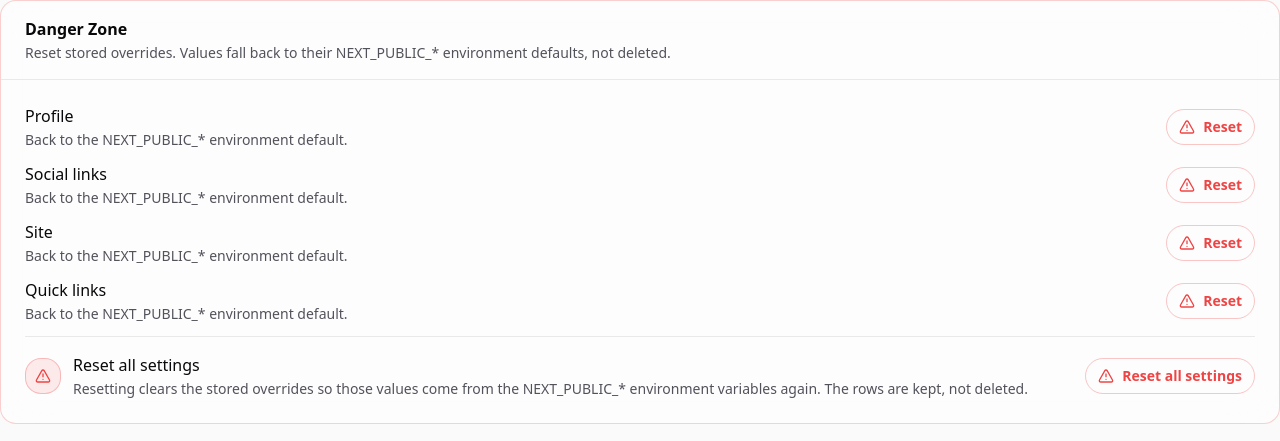
Test: DangerZone › tidak memanggil API pada klik pertama (butuh konfirmasi)
Click the button "Reset all settings" at (1170, 376), box [1085,358,1255,394]
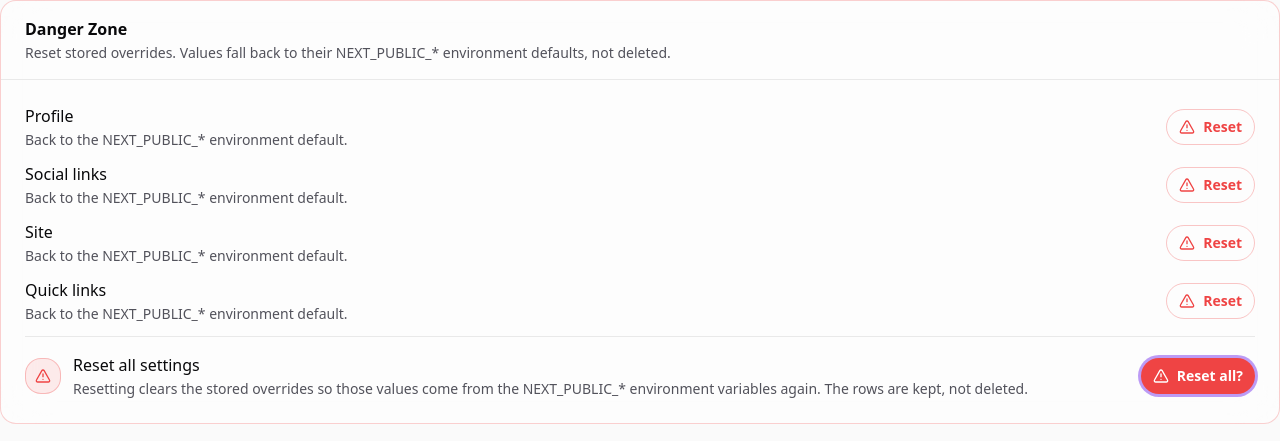
Expected: the button "Reset all?" is shown, [1141,358,1255,394]
